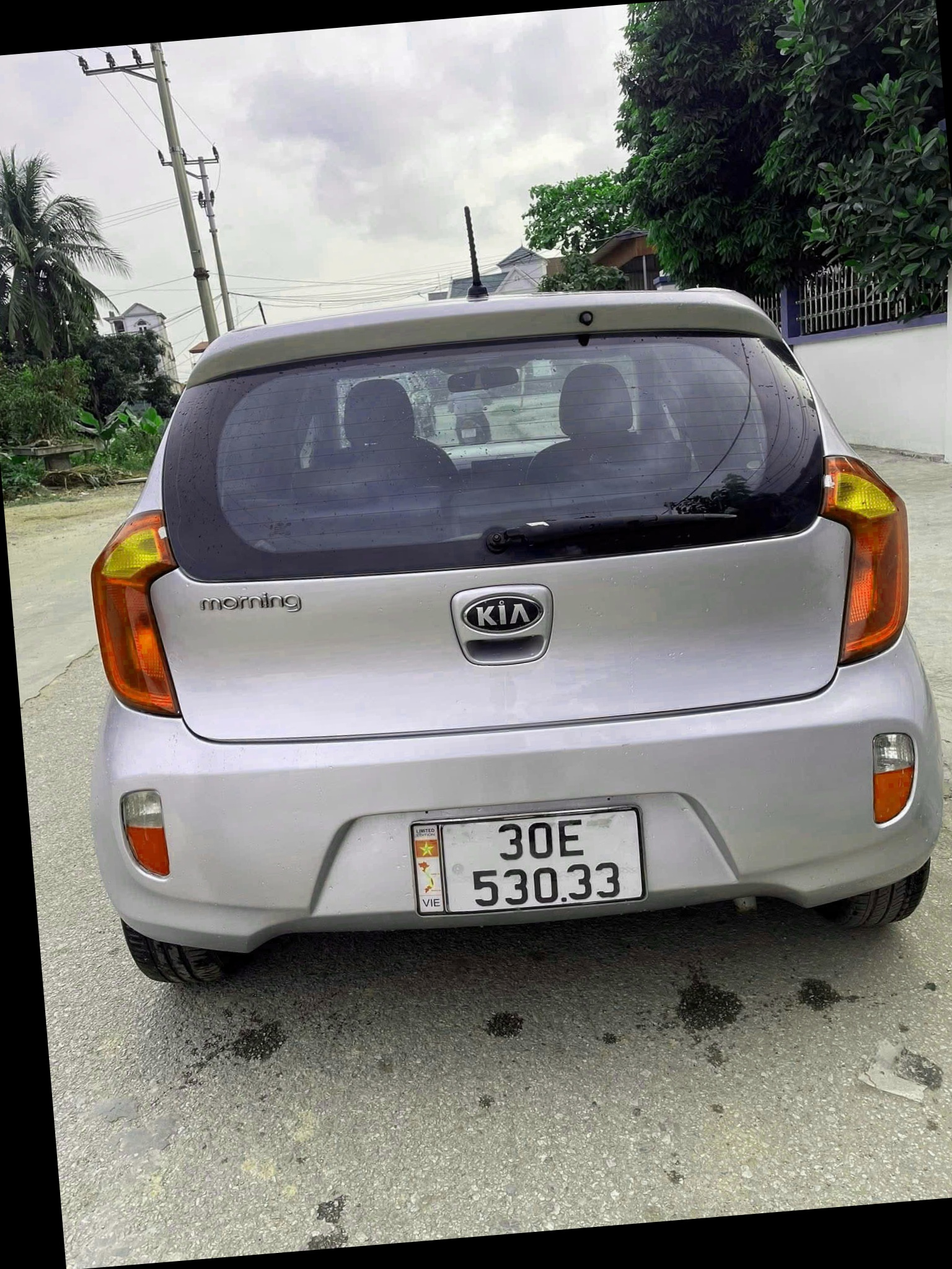Bien-so: (422, 809, 604, 912)
